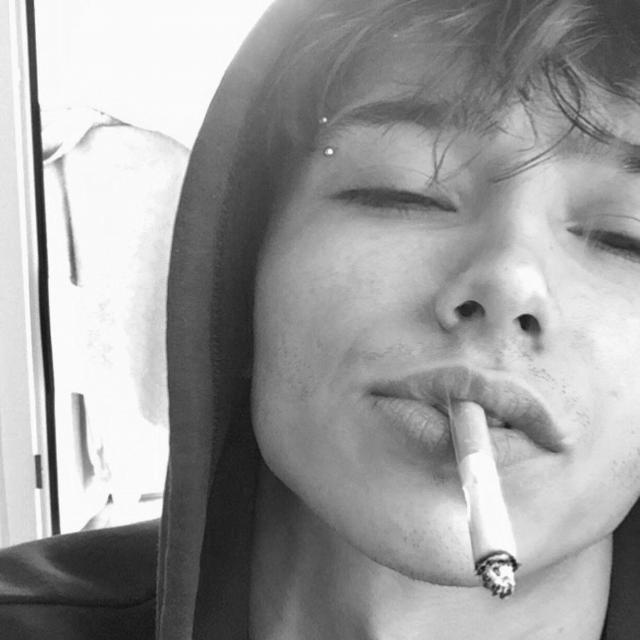cigarette: (427, 376, 547, 640)
